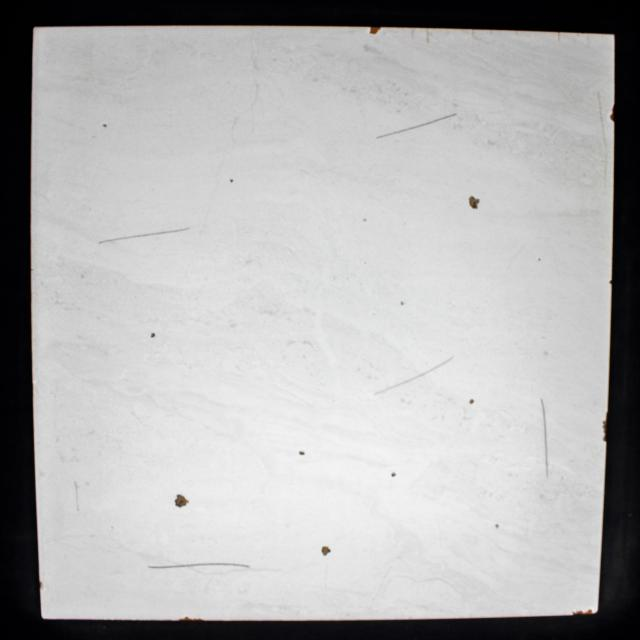edge-chipping: (178, 616, 203, 622), (572, 609, 593, 616), (602, 420, 608, 442), (369, 26, 381, 34), (610, 104, 615, 123), (38, 582, 42, 590)
hole: (174, 494, 189, 507), (468, 196, 480, 210), (321, 546, 332, 557), (469, 398, 475, 405), (150, 331, 156, 338), (299, 451, 306, 456), (390, 472, 396, 477), (229, 178, 234, 184), (102, 124, 108, 128), (495, 524, 500, 528)
line: (373, 355, 455, 394), (376, 113, 456, 139), (98, 226, 191, 244), (597, 94, 609, 190), (147, 562, 251, 570), (540, 398, 549, 479), (73, 481, 80, 512), (425, 27, 430, 44)
